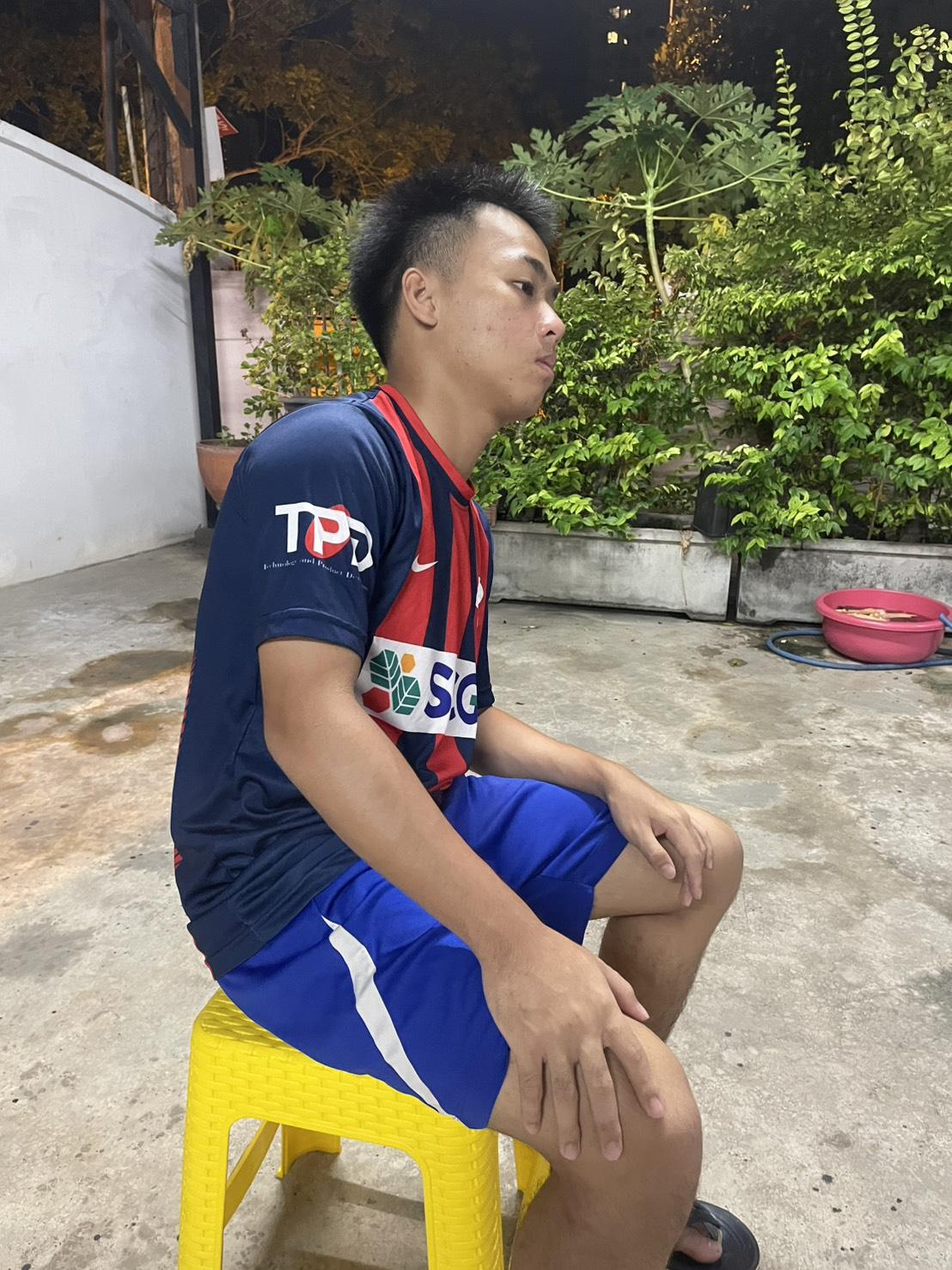BadPosture: (172, 166, 563, 973)
